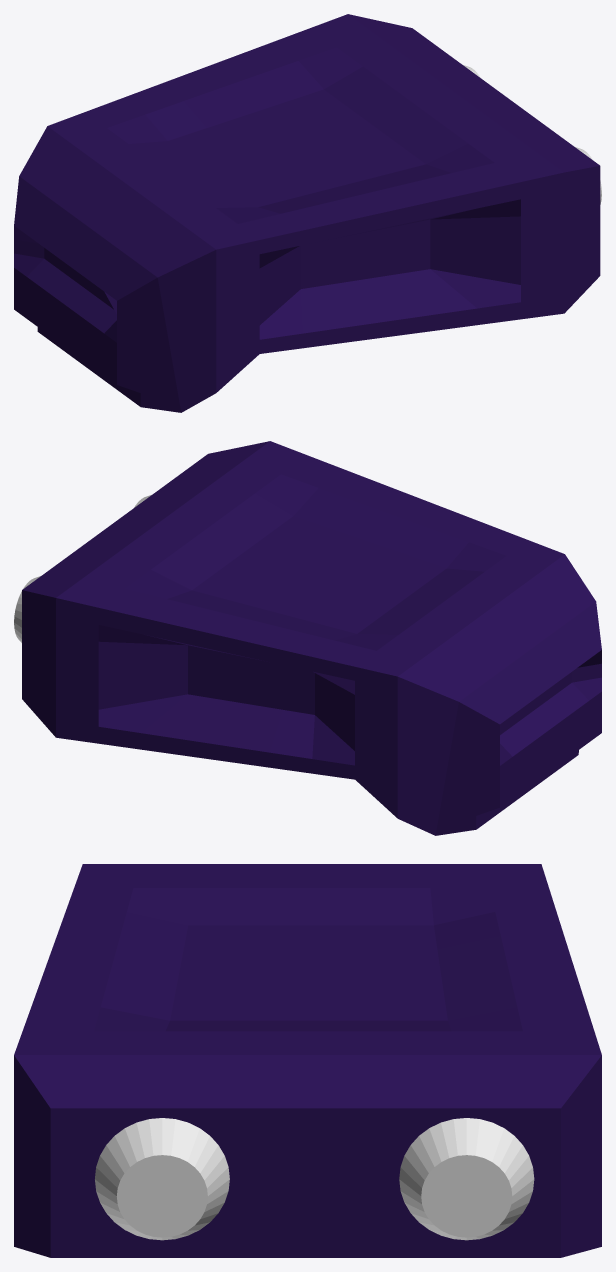
File: boss1.glb
3 views of the same model, one above another, from view 1: azimuth 30°, elevation 25°; view 2: azimuth 150°, elevation 25°; view 3: azimuth 270°, elevation 25° (orthographic). The views are drawn at different scales.
Visible parts, largest first — view 1: Hull; view 2: Hull; view 3: Hull, Thruster.
Boxes of the visible parts, x1,y1,x2,y2 form: Hull: [14, 14, 600, 412]; Hull: [22, 441, 601, 835]; Hull: [14, 864, 601, 1257]; Thruster: [95, 1118, 534, 1240].
Bounding box in the file's own units: 104 × 39.58 × 83.38.
